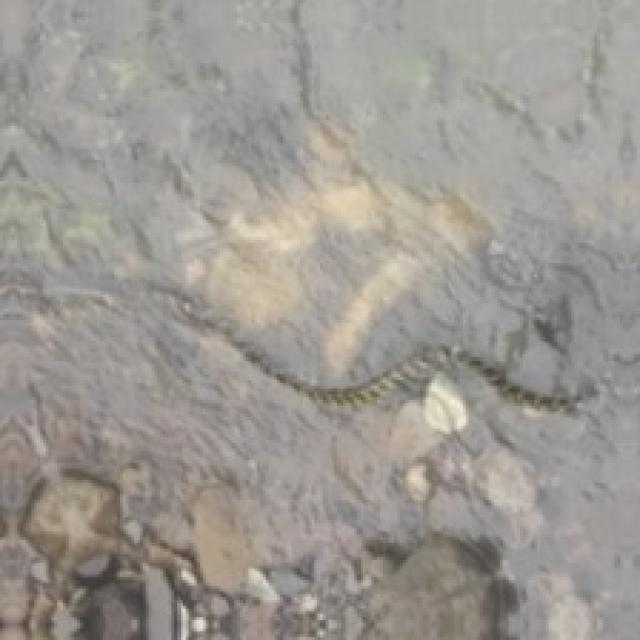mangrove cat snake: (177, 297, 580, 423)
